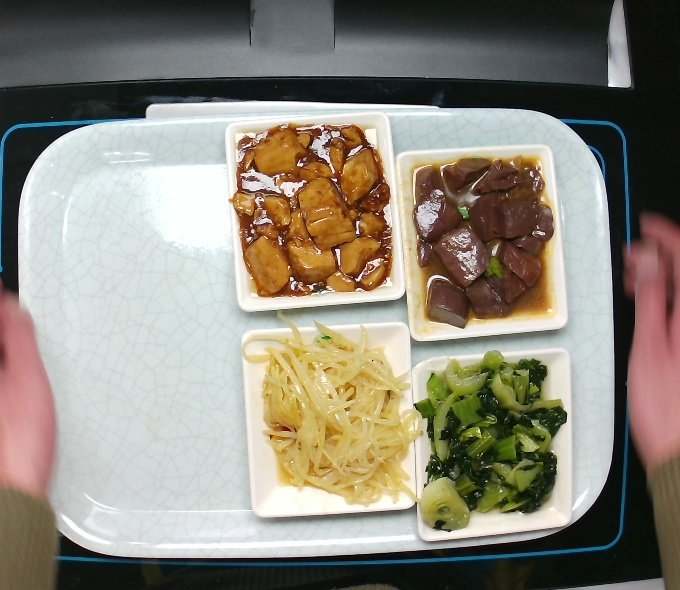wcq-MaPoDouFu: (220, 108, 401, 305)
wcq-NiuXue: (401, 136, 582, 333)
wcq-TuDouSi: (241, 319, 422, 516)
wcq-YouDongCai: (409, 355, 590, 552)
